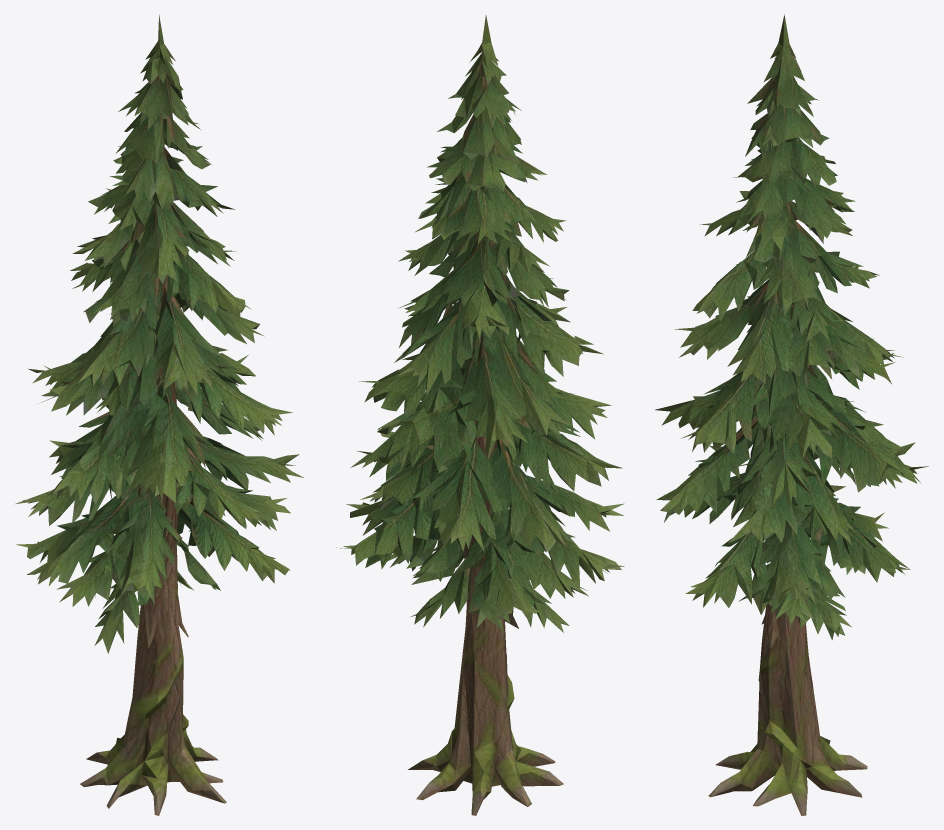
Rendered from VEG-004.glb.
3 renders of one model, left to right at view 1: azimuth 30°, elevation 25°; view 2: azimuth 150°, elevation 25°; view 3: azimuth 270°, elevation 25°, orthographic.
Parts seen in each view (by area): view 1: VEG-004_LOD0; view 2: VEG-004_LOD0; view 3: VEG-004_LOD0.
Part boxes in pixels (x1,y1,x2,y2): VEG-004_LOD0: (14, 14, 303, 815); VEG-004_LOD0: (336, 15, 624, 815); VEG-004_LOD0: (655, 14, 928, 815).
Size of what is drawn, in the model's own units: 6.66 by 18 by 5.86.
Materials: 1 (1 with a texture image).
